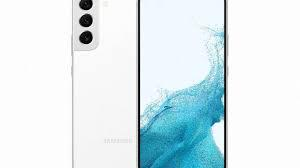Smartphone: (140, 1, 227, 168), (70, 0, 137, 168)
